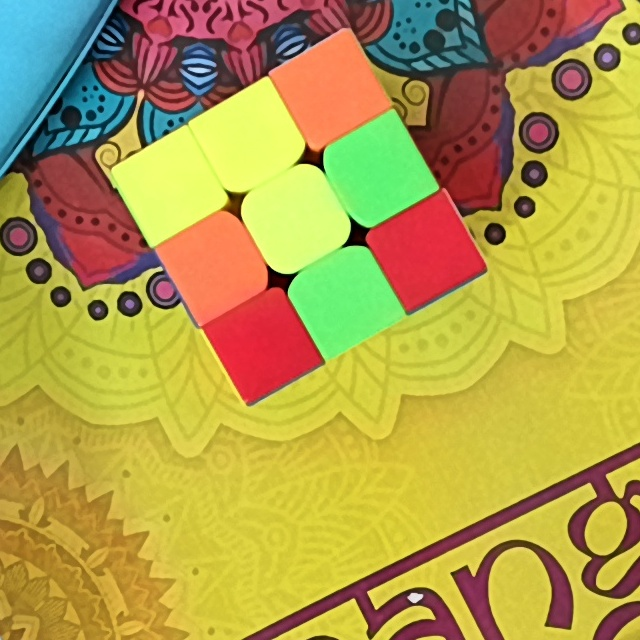tile: (308, 269, 377, 332), (182, 236, 246, 302), (395, 217, 459, 283), (302, 57, 366, 120), (230, 315, 295, 377), (264, 188, 328, 250), (346, 138, 408, 201), (215, 110, 279, 170), (137, 156, 200, 216)
